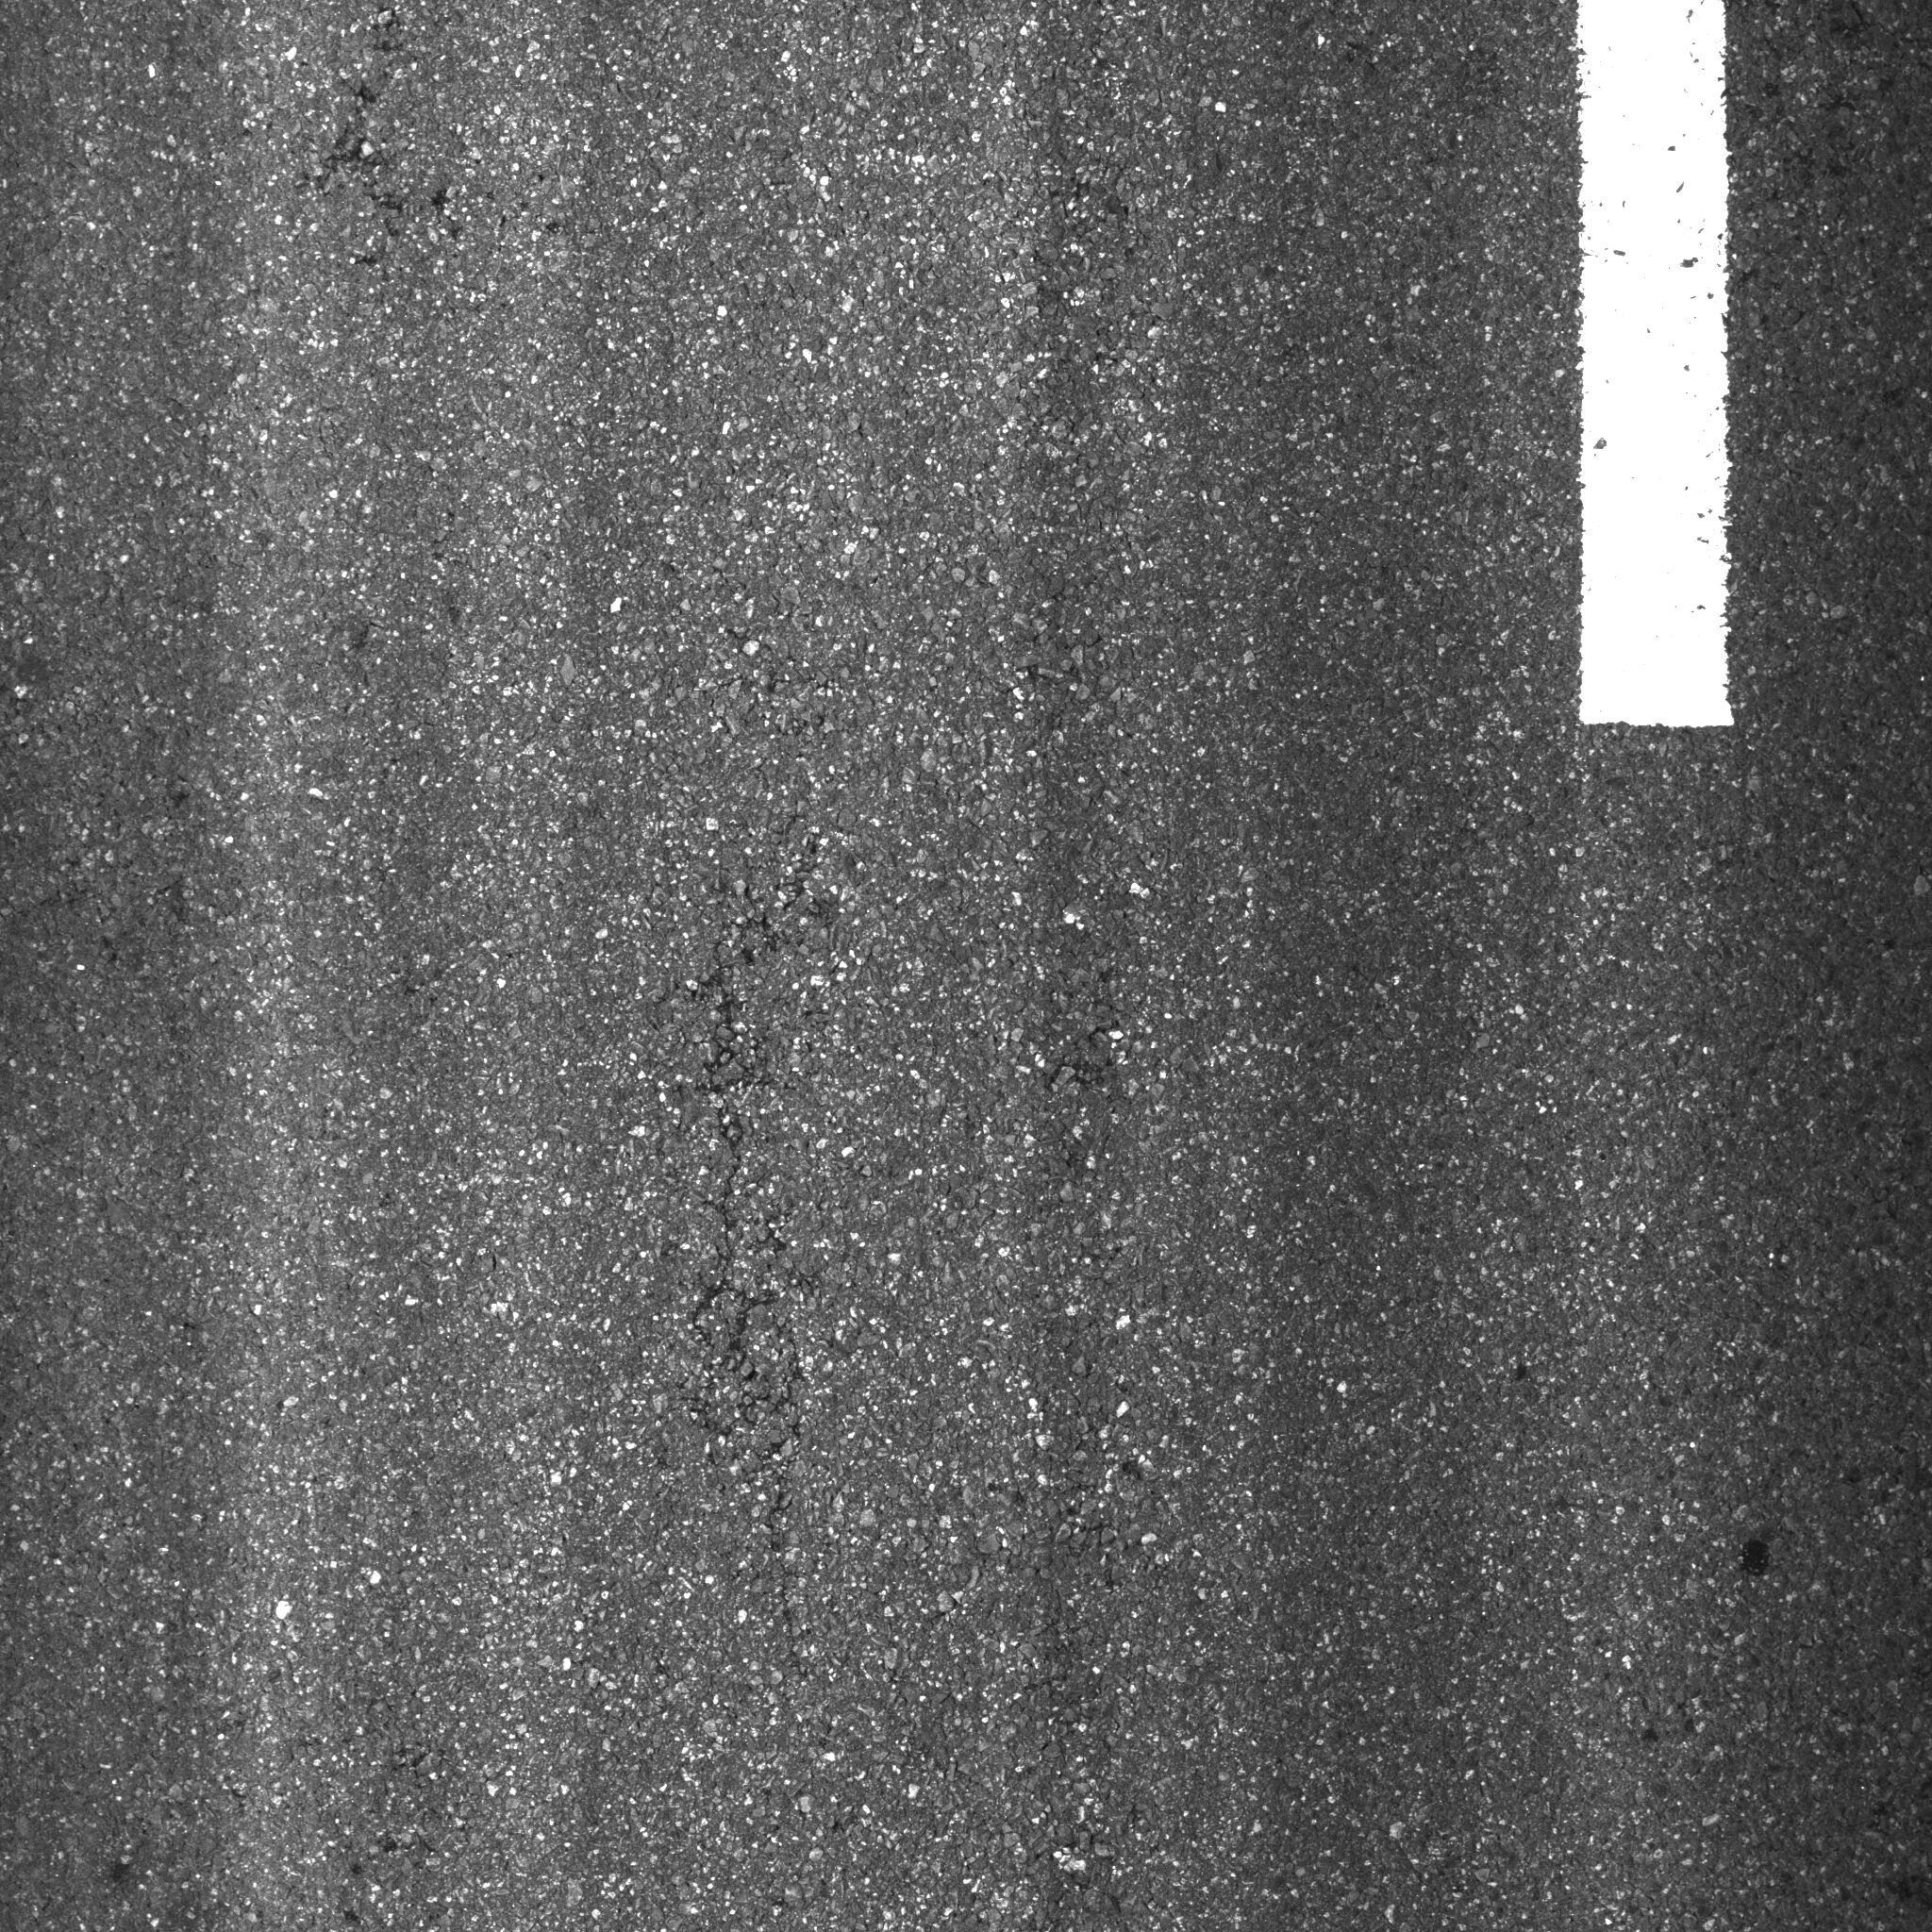longitudinal: (690, 736, 807, 1502)
